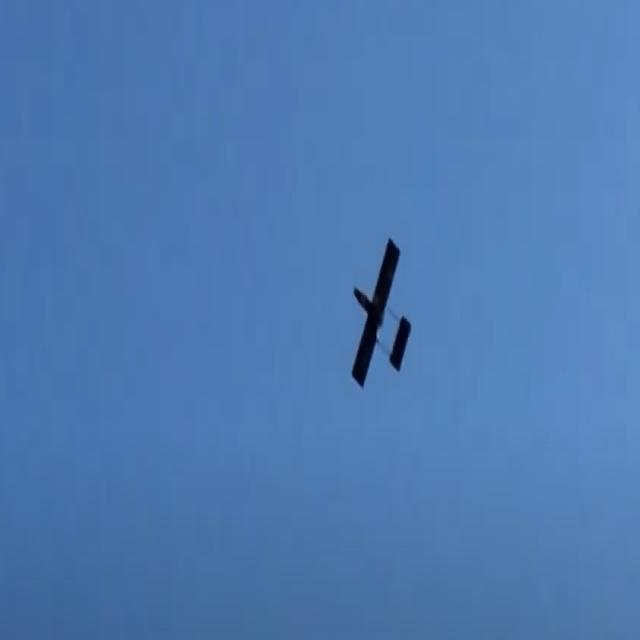iha: (352, 234, 410, 391)
